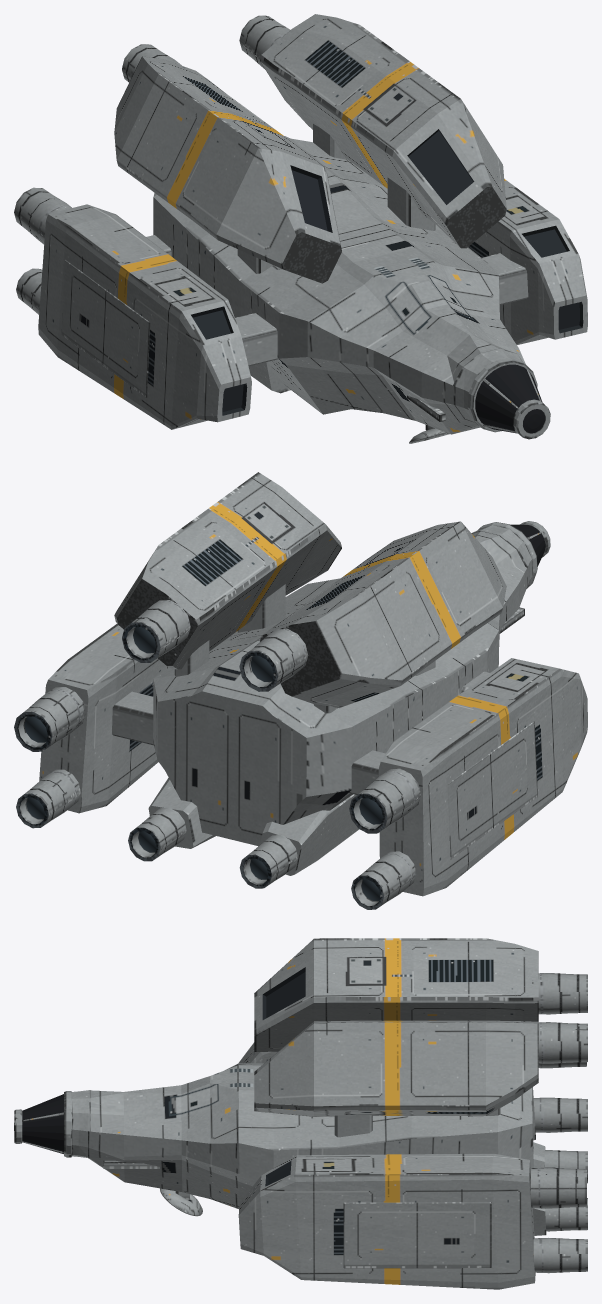
Rendered from astra.glb.
3 renders of one model, top to bottom at view 1: azimuth 30°, elevation 25°; view 2: azimuth 150°, elevation 25°; view 3: azimuth 270°, elevation 25°, orthographic. The views are drawn at different scales.
Parts seen in each view (by area): view 1: astra · fitted hull; view 2: astra · fitted hull; view 3: astra · fitted hull.
Part boxes in pixels (x1,y1,x2,y2): astra · fitted hull: [14, 14, 587, 443]; astra · fitted hull: [14, 472, 587, 909]; astra · fitted hull: [14, 938, 587, 1289].
Bounding box in the file's own units: 1.33 × 0.8787 × 1.97.
5 materials, 2 textured.
